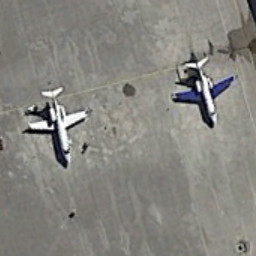Airplane: (18, 81, 97, 184), (163, 50, 244, 130)
